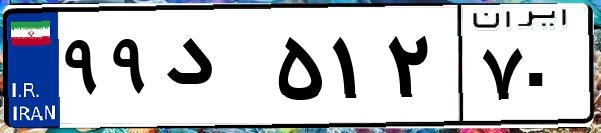0: (525, 38, 570, 115)
1: (330, 28, 385, 110)
2: (385, 28, 445, 110)
5: (270, 28, 330, 110)
7: (475, 38, 525, 113)
9: (57, 26, 110, 100), (110, 28, 158, 98)
د: (158, 20, 270, 120)
